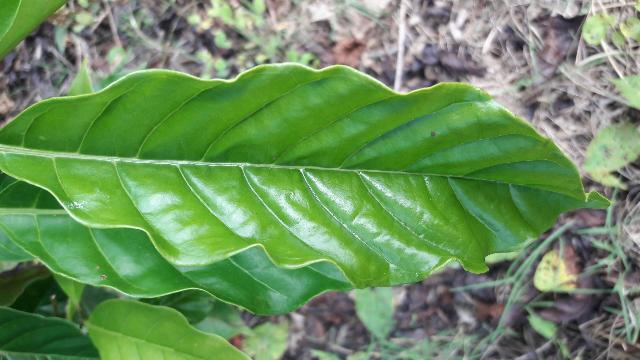healthy: (0, 65, 592, 284)
